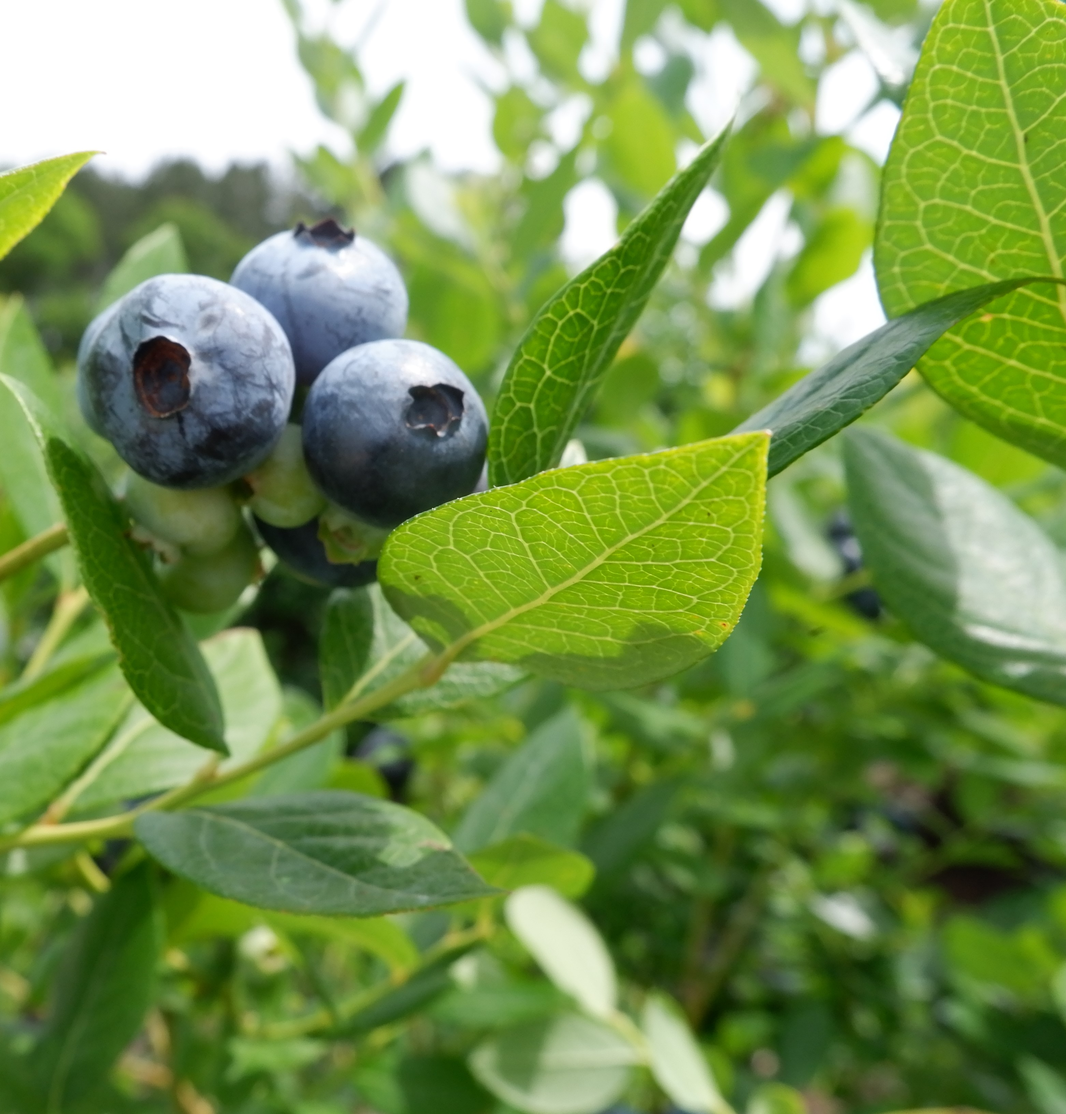Immature: (162, 514, 260, 616), (129, 479, 238, 566), (243, 425, 323, 527), (317, 500, 399, 565)
Mature: (77, 277, 292, 482), (231, 221, 401, 422), (303, 343, 489, 517), (251, 512, 378, 587)
